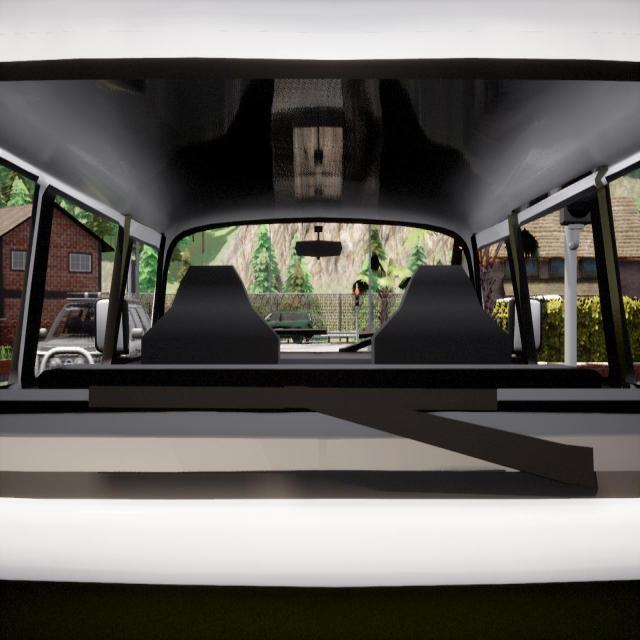Vehicle: (0, 0, 640, 640), (36, 297, 150, 376), (264, 311, 313, 343)
traffic_light: (562, 191, 594, 225), (126, 260, 136, 294), (355, 289, 359, 306)
